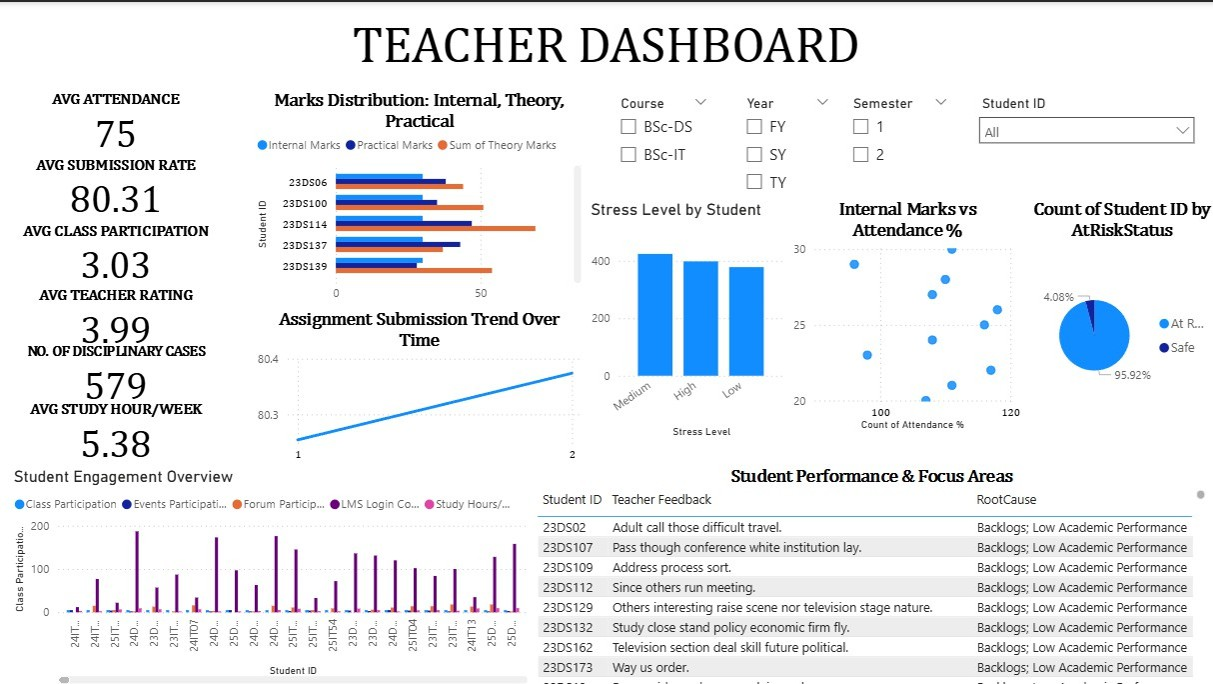

Layout of this report page (visuals, bound fields, positions):
{"tool":"powerbi","page":{"name":"Teacher","canvas":[1280,720],"ordinal":1},"visuals":[{"type":"card","title":"AVG ATTENDANCE","fields":{"Values":["Avg(fake_student_performance_dataset.Attendance %)"]},"box":[9.8,92.3,223.8,69.9],"z":0},{"type":"lineChart","title":"Assignment Submission Trend Over Time","fields":{"Y":["Avg(fake_student_performance_dataset.Assignment Submission Rate)"],"Category":["fake_student_performance_dataset.Semester"]},"box":[264.4,323.2,351.1,165.1],"z":1000},{"type":"scatterChart","title":"Internal Marks vs Attendance %","fields":{"X":["CountNonNull(fake_student_performance_dataset.Attendance %)"],"Y":["fake_student_performance_dataset.Internal Marks"]},"box":[828.2,208.4,249,246.2],"z":2000},{"type":"tableEx","title":"Student Performance & Focus Areas","fields":{"Values":["fake_student_performance_dataset.Student ID","fake_student_performance_dataset.Teacher Feedback","fake_student_performance_dataset.RootCause"]},"box":[559.6,488.2,712.1,232.2],"z":3000},{"type":"clusteredBarChart","title":"Marks Distribution: Internal, Theory, Practical","fields":{"Category":["fake_student_performance_dataset.Student ID"],"Y":["Sum(fake_student_performance_dataset.Internal Marks)","Sum(fake_student_performance_dataset.Practical Marks)","Sum(fake_student_performance_dataset.Theory Marks)"]},"box":[264.4,92.3,351.1,230.8],"z":4000},{"type":"card","title":"AVG SUBMISSION RATE","fields":{"Values":["Avg(fake_student_performance_dataset.Assignment Submission Rate)"]},"box":[9.8,162.3,223.8,68.6],"z":5000},{"type":"card","title":"AVG CLASS PARTICIPATION","fields":{"Values":["Avg(fake_student_performance_dataset.Class Participation)"]},"box":[9.8,230.8,223.8,68.6],"z":6000},{"type":"card","title":"AVG TEACHER RATING","fields":{"Values":["Avg(fake_student_performance_dataset.Teacher Rating)"]},"box":[9.8,299.4,223.8,68.6],"z":7000},{"type":"card","title":"NO. OF DISCIPLINARY CASES","fields":{"Values":["at_risk_predictions.DisciplinaryCount"]},"box":[9.8,359.5,223.8,68.6],"z":8000},{"type":"card","title":"AVG STUDY HOUR/WEEK","fields":{"Values":["Avg(fake_student_performance_dataset.Study Hours/Week)"]},"box":[9.8,419.7,223.8,68.6],"z":9000},{"type":"clusteredColumnChart","title":"Student Engagement Overview","fields":{"Category":["fake_student_performance_dataset.Student ID"],"Y":["Avg(fake_student_performance_dataset.Class Participation)","Avg(fake_student_performance_dataset.Events Participation)","Avg(fake_student_performance_dataset.Forum Participation)","Avg(fake_student_performance_dataset.LMS Login Count)","Avg(fake_student_performance_dataset.Study Hours/Week)"]},"box":[9.8,488.2,549.8,232.2],"z":10000},{"type":"clusteredColumnChart","title":"Stress Level by Student","fields":{"Category":["fake_student_performance_dataset.Stress Level"],"Y":["CountNonNull(fake_student_performance_dataset.Student ID)"]},"box":[615.6,208.4,212.6,253.2],"z":11000},{"type":"pieChart","fields":{"Y":["CountNonNull(fake_student_performance_dataset.Student ID)"],"Category":["fake_student_performance_dataset.AtRiskStatus"]},"box":[1077.2,208.4,202.9,246.2],"z":12000},{"type":"shape","box":[9.5,12.6,1255.3,61.4],"z":15000},{"type":"slicer","fields":{"Values":["fake_student_performance_dataset.Course"]},"box":[639.3,92.3,116.1,92.3],"z":16000},{"type":"slicer","fields":{"Values":["fake_student_performance_dataset.Year"]},"box":[772.2,92.3,111.9,116.1],"z":17000},{"type":"slicer","fields":{"Values":["fake_student_performance_dataset.Semester"]},"box":[884.2,92.3,124.5,116.1],"z":18000},{"type":"slicer","fields":{"Values":["fake_student_performance_dataset.Student ID"]},"box":[1019.9,92.3,246.2,92.3],"z":19000}]}

Visuals, with their boxes in screenshot pixels (x1, y1, x2, y2), scaled from the page's 1280x720 canvas onto the 1213x684 screenshot:
"AVG ATTENDANCE" card: Rect(9, 88, 221, 154)
"Assignment Submission Trend Over Time" lineChart: Rect(251, 307, 583, 464)
"Internal Marks vs Attendance %" scatterChart: Rect(785, 198, 1021, 432)
"Student Performance & Focus Areas" tableEx: Rect(530, 464, 1205, 683)
"Marks Distribution: Internal, Theory, Practical" clusteredBarChart: Rect(251, 88, 583, 307)
"AVG SUBMISSION RATE" card: Rect(9, 154, 221, 219)
"AVG CLASS PARTICIPATION" card: Rect(9, 219, 221, 284)
"AVG TEACHER RATING" card: Rect(9, 284, 221, 350)
"NO. OF DISCIPLINARY CASES" card: Rect(9, 342, 221, 407)
"AVG STUDY HOUR/WEEK" card: Rect(9, 399, 221, 464)
"Student Engagement Overview" clusteredColumnChart: Rect(9, 464, 530, 683)
"Stress Level by Student" clusteredColumnChart: Rect(583, 198, 785, 439)
pieChart - CountNonNull(fake_student_performance_dataset.Student ID) x fake_student_performance_dataset.AtRiskStatus: Rect(1021, 198, 1212, 432)
shape: Rect(9, 12, 1199, 70)
slicer - fake_student_performance_dataset.Course: Rect(606, 88, 716, 175)
slicer - fake_student_performance_dataset.Year: Rect(732, 88, 838, 198)
slicer - fake_student_performance_dataset.Semester: Rect(838, 88, 956, 198)
slicer - fake_student_performance_dataset.Student ID: Rect(967, 88, 1200, 175)
